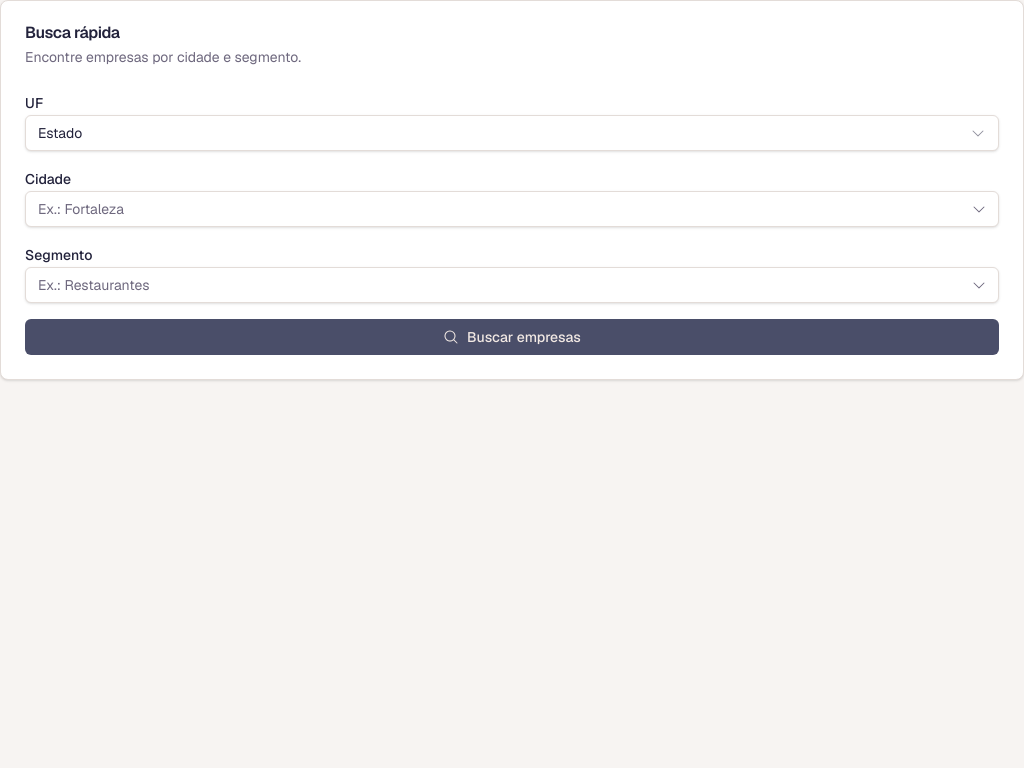
QuickSearchForm › shows segment suggestions in the app dropdown style
Focus the dropdown labelled "Segmento": (512, 285) [25,267,999,303]
(page scrolled)
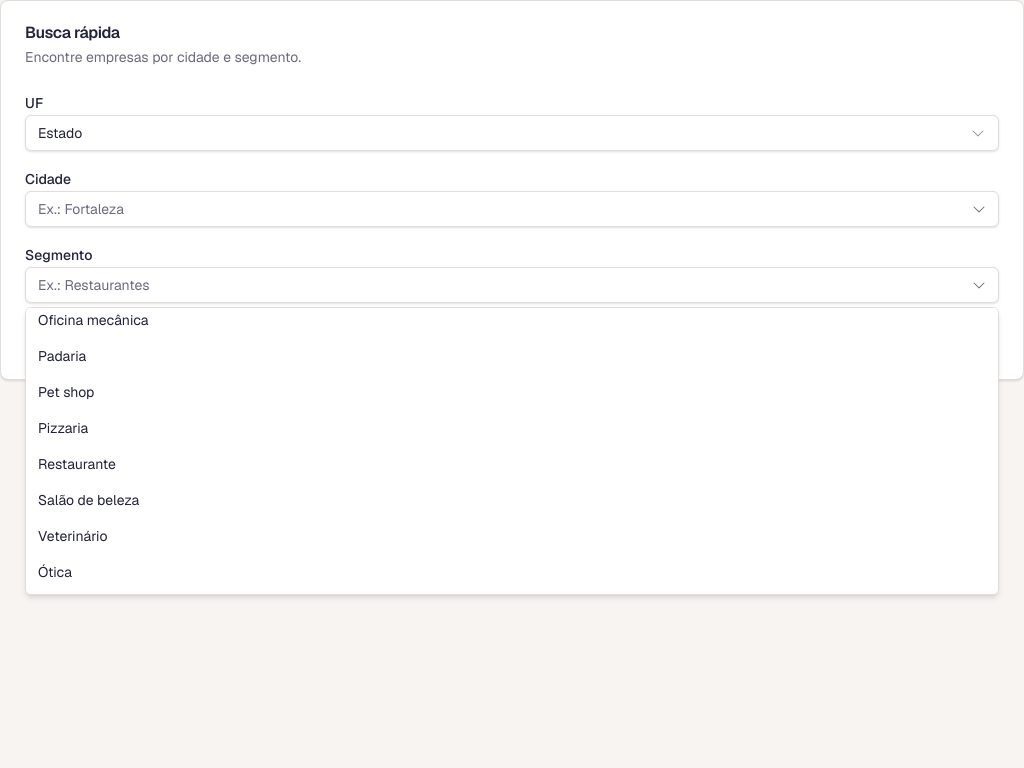
Expected: the option "Restaurante" is shown, [30,446,994,482]
